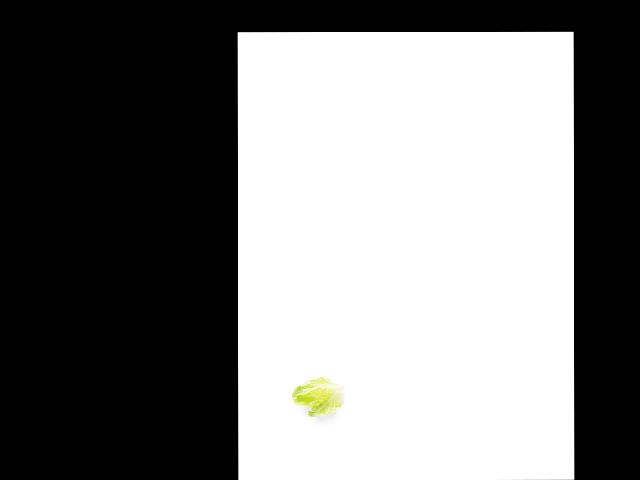lettuce: (288, 375, 349, 418)
